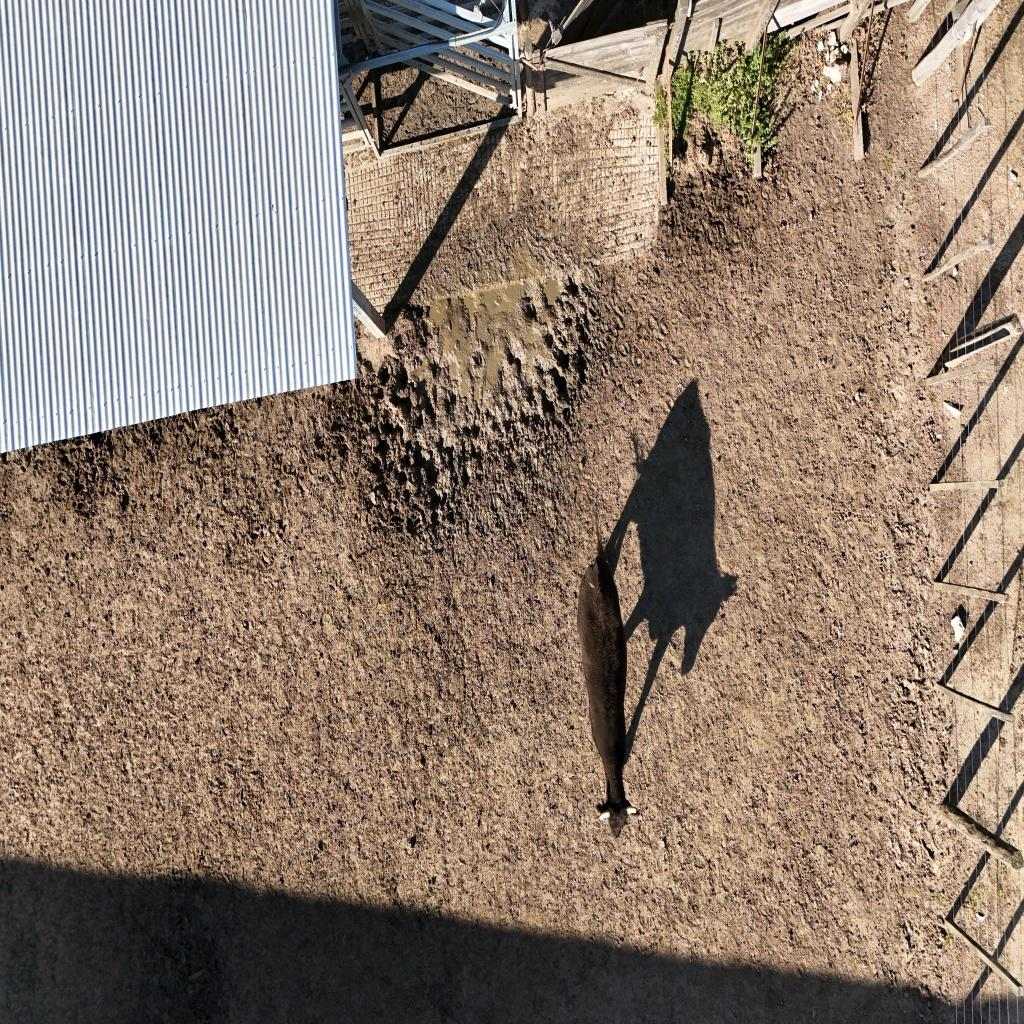cow: (572, 537, 644, 843)
